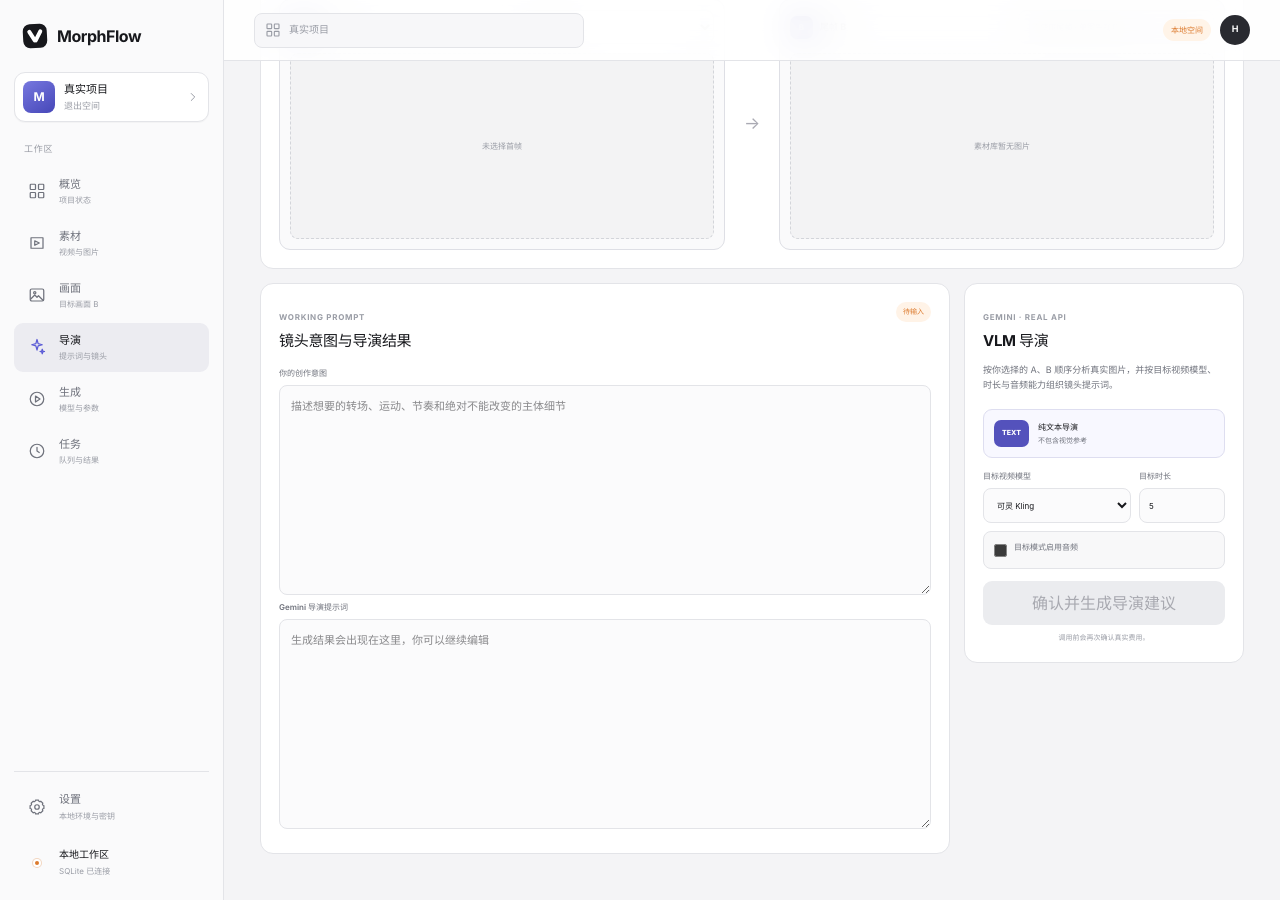
Test: studio pages › opens a custom confirmation component before the director request
The width and height of the screenshot is (1280, 900).
(page scrolled)
Type "镜头缓慢推进并保持人物连续" into the text box labelled "你的创作意图".
click(605, 490); type("镜头缓慢推进并保持人物连续")  # box x1=279 y1=385 x2=931 y2=595
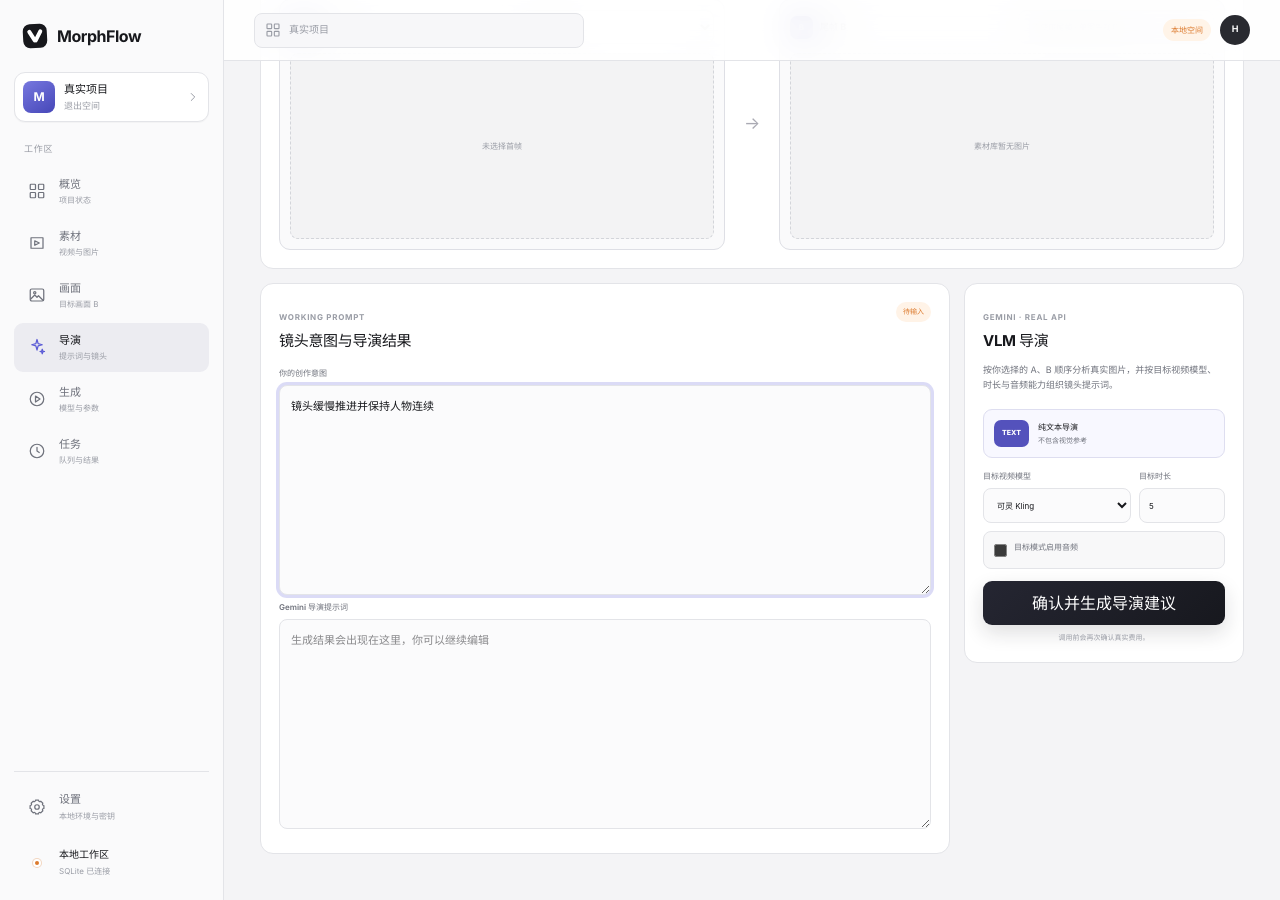
Click the button "确认并生成导演建议".
click(1104, 603)  # box x1=983 y1=581 x2=1225 y2=625
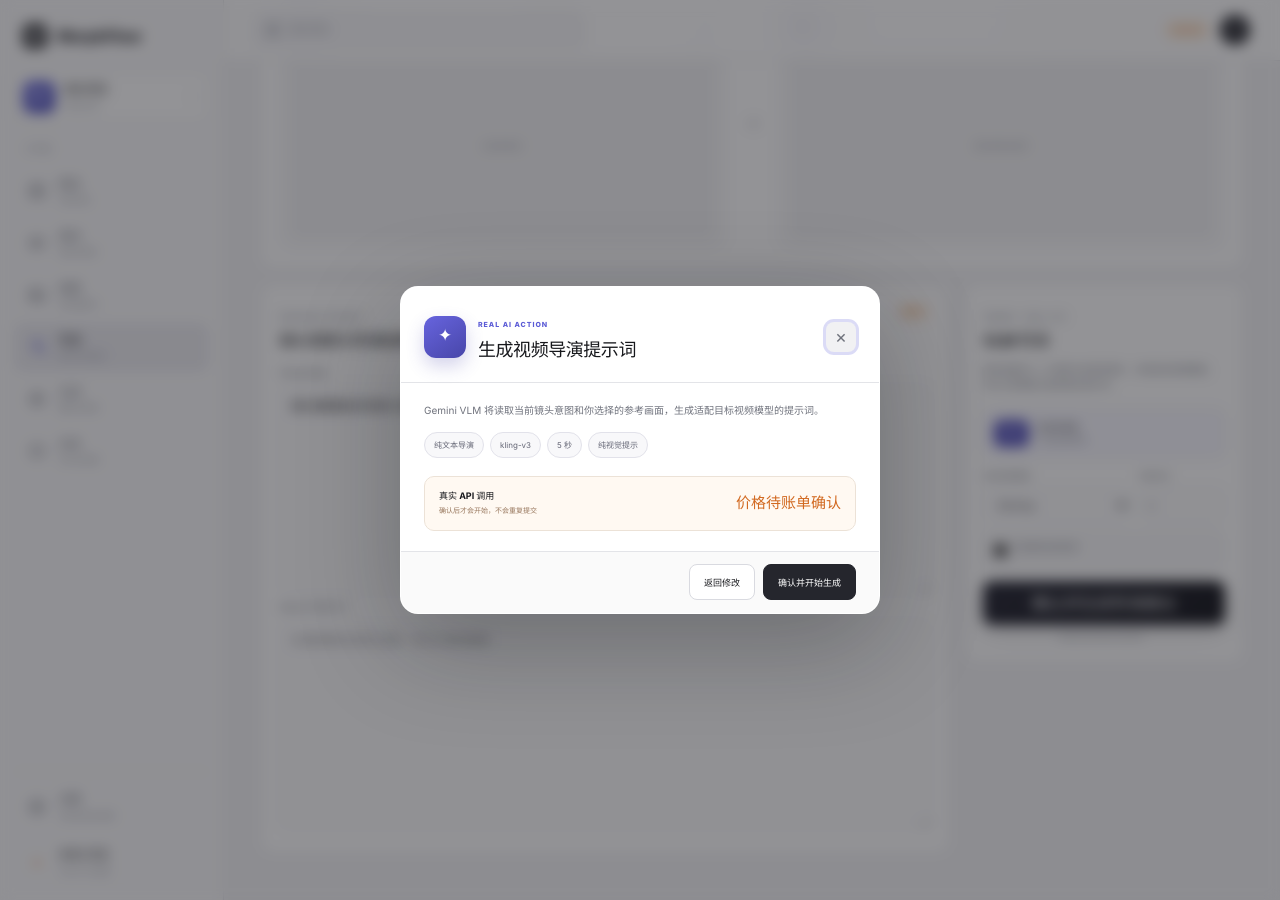
expect the dialog "生成视频导演提示词" is shown: met, box x1=400 y1=286 x2=880 y2=614
